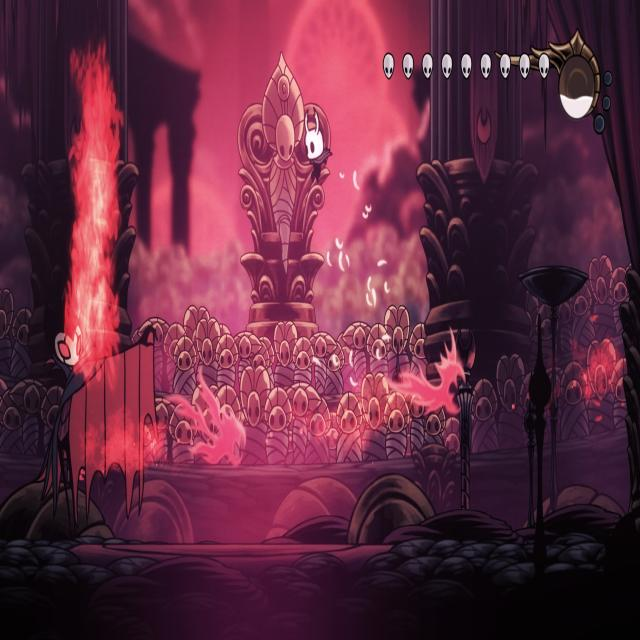Fire Bat: (167, 373, 245, 467), (395, 319, 464, 417)
Open Cloak: (35, 302, 160, 547)
Player: (298, 103, 335, 190)
